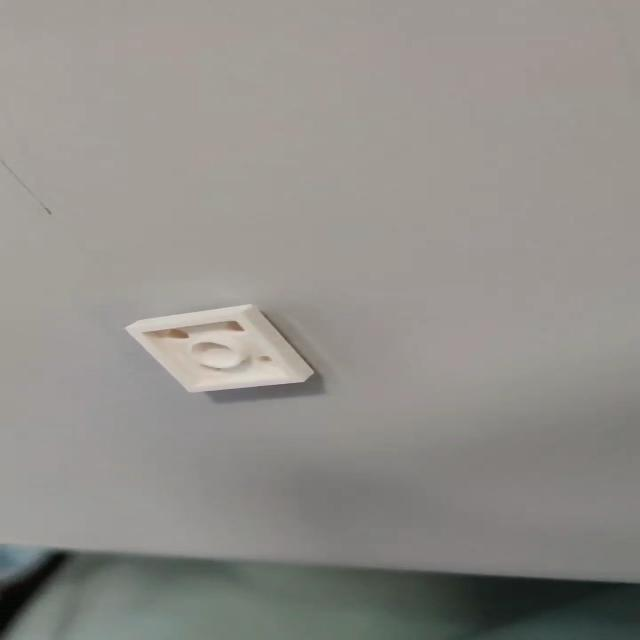C2x2x0: (127, 302, 323, 396)
